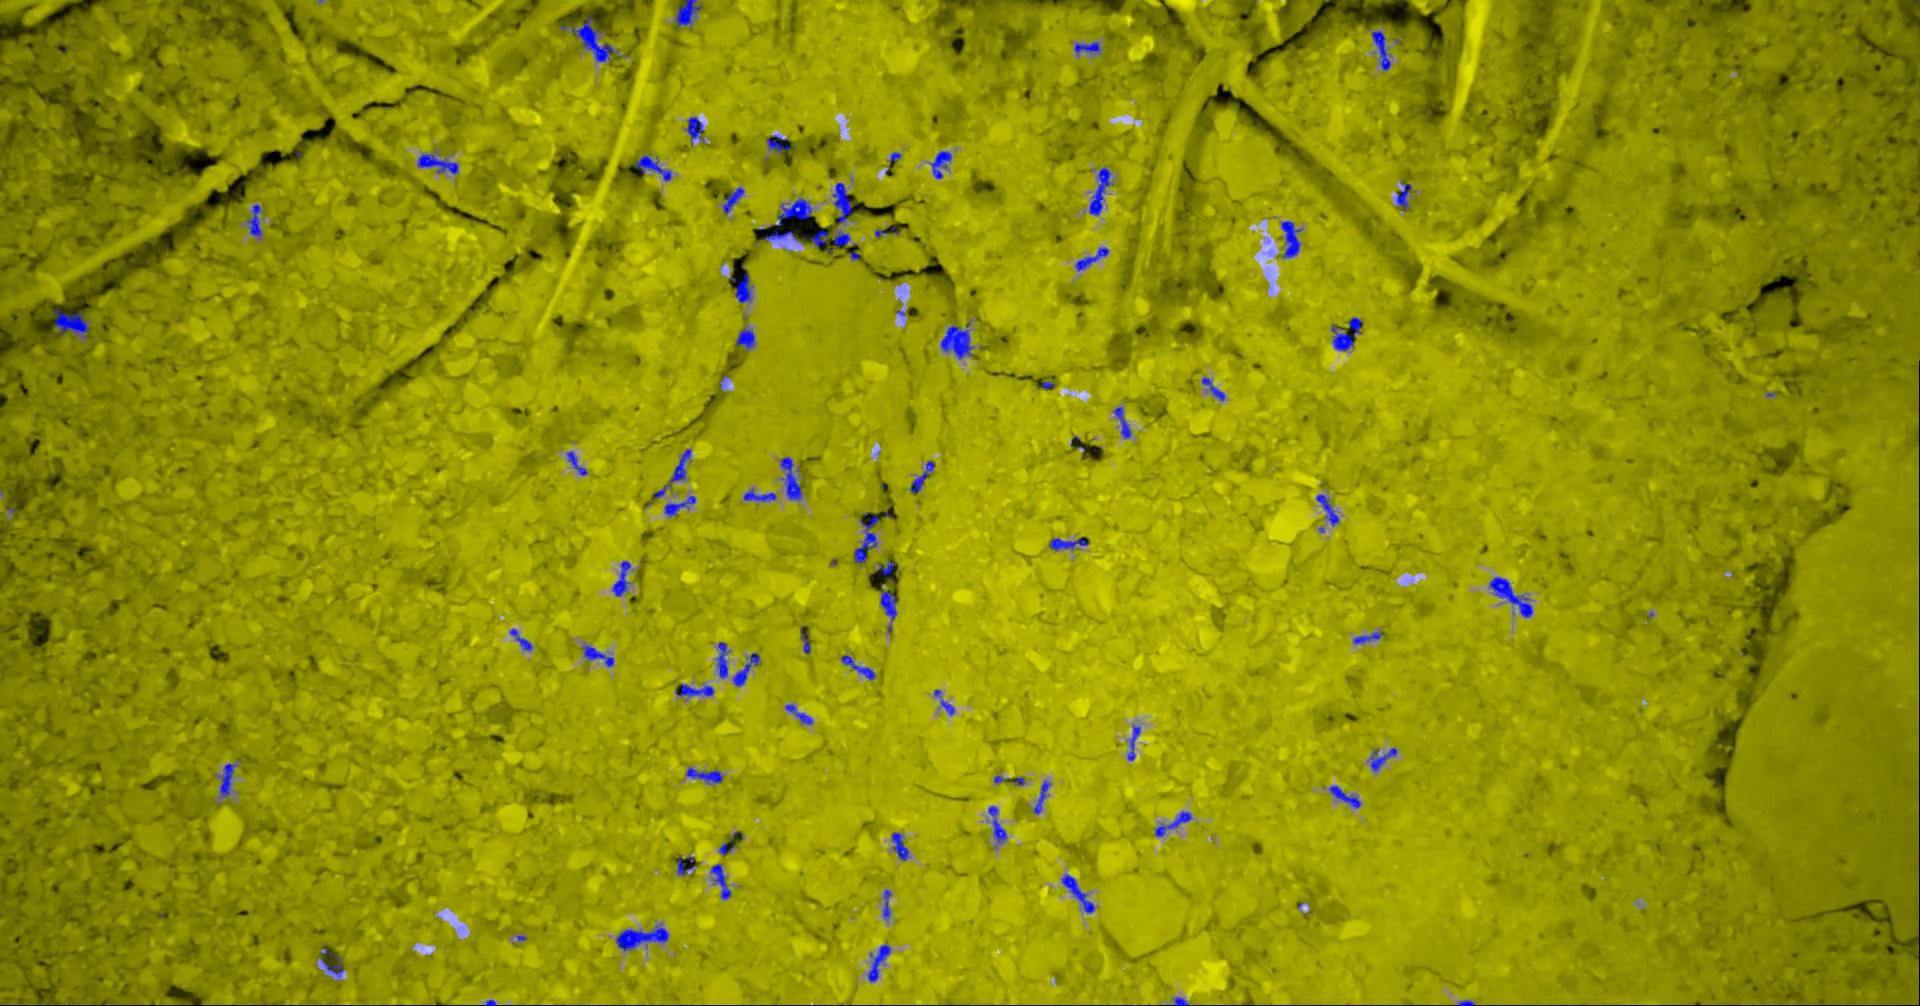ant: (573, 15, 618, 61), (655, 448, 692, 498), (1491, 575, 1534, 617), (617, 925, 670, 951), (855, 511, 880, 563), (1063, 874, 1096, 913), (942, 323, 975, 358), (1090, 166, 1114, 215), (55, 307, 91, 335), (1333, 318, 1363, 351), (782, 456, 804, 500), (778, 197, 813, 225), (636, 155, 673, 180), (1156, 810, 1192, 836), (734, 652, 761, 686), (733, 262, 754, 302), (842, 655, 877, 680), (834, 182, 855, 224), (869, 944, 891, 981), (910, 460, 936, 493), (418, 154, 460, 173), (1077, 246, 1110, 271), (1330, 785, 1363, 808), (1373, 30, 1392, 70), (712, 862, 733, 899), (1317, 494, 1341, 525), (1283, 220, 1302, 257), (989, 807, 1008, 843), (677, 0, 703, 25), (613, 560, 632, 596), (323, 948, 345, 977), (687, 766, 724, 784), (665, 495, 697, 516), (583, 645, 615, 666), (1371, 747, 1398, 771), (220, 763, 237, 798), (724, 185, 745, 213), (786, 702, 814, 724), (932, 150, 952, 178), (1203, 377, 1227, 400), (510, 627, 535, 650), (568, 450, 589, 475), (1035, 780, 1051, 813), (1115, 406, 1133, 437), (883, 586, 898, 620), (717, 641, 731, 678), (688, 116, 706, 144), (893, 832, 910, 860), (1051, 537, 1090, 550), (677, 683, 715, 696), (805, 229, 830, 246), (249, 205, 263, 236), (1397, 183, 1413, 210), (1129, 725, 1142, 760), (877, 559, 895, 583), (737, 328, 756, 349), (768, 133, 791, 151), (678, 855, 697, 875), (1076, 41, 1102, 55), (764, 229, 796, 240), (745, 489, 777, 500), (1355, 631, 1383, 643), (996, 775, 1026, 785), (876, 226, 902, 238), (833, 231, 851, 245), (803, 625, 811, 653), (942, 699, 956, 715), (884, 889, 891, 918), (721, 843, 739, 855)
